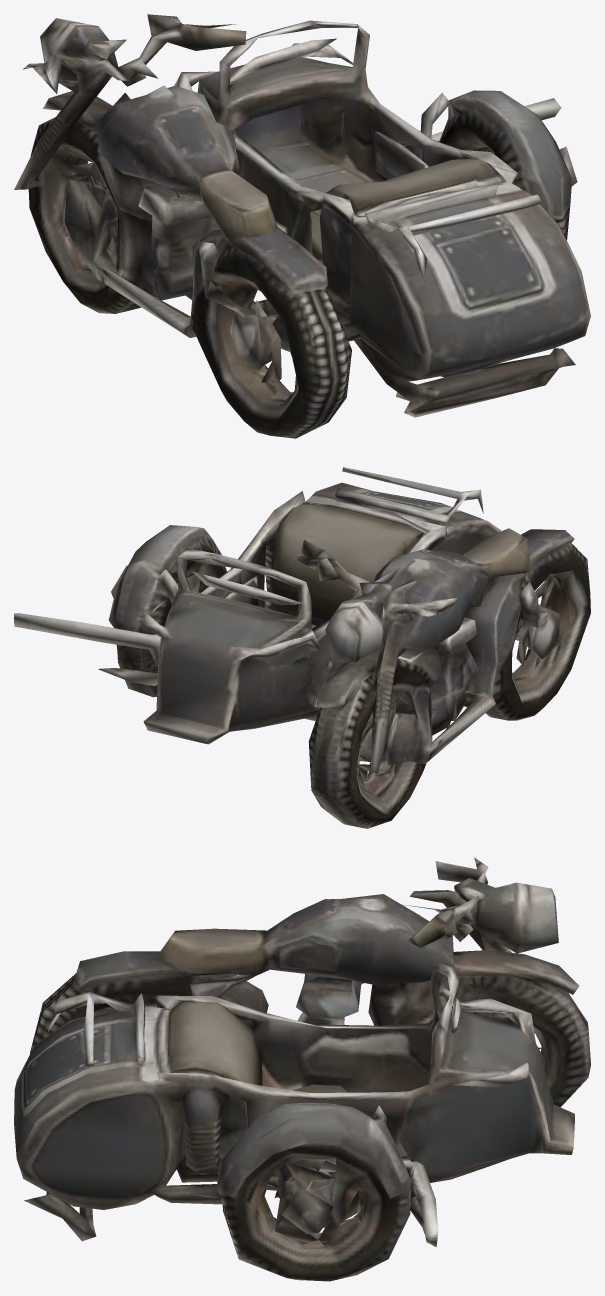
The model's file is sidecar-motorcycle-web.glb.
The picture shows the model from 3 angles, top to bottom: view 1: azimuth 30°, elevation 25°; view 2: azimuth 150°, elevation 25°; view 3: azimuth 270°, elevation 25°; orthographic projection. The views are drawn at different scales.
Parts seen in each view (by area): view 1: Mesh_0; view 2: Mesh_0; view 3: Mesh_0.
Boxes of the visible parts, x1,y1,x2,y2 form: Mesh_0: [14, 14, 590, 438]; Mesh_0: [14, 467, 590, 828]; Mesh_0: [14, 857, 590, 1281].
Bounding box in the file's own units: 1.84 × 0.9576 × 1.86.
Materials: 1 (1 with a texture image).
